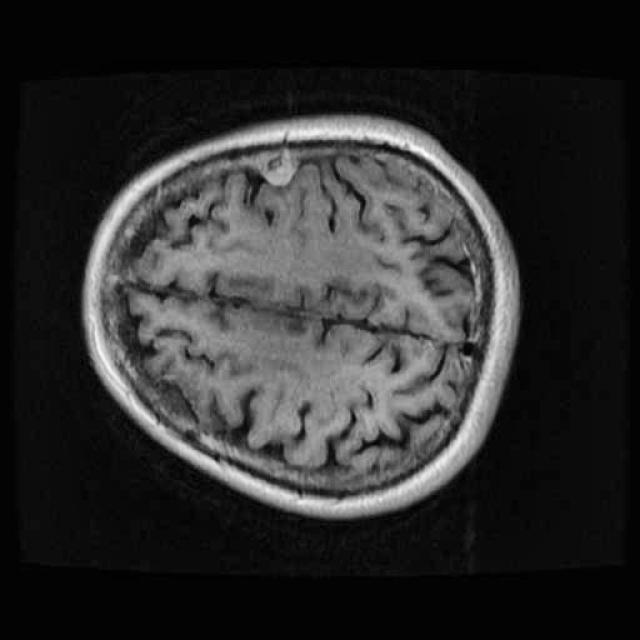Tumor: (236, 131, 330, 203)
